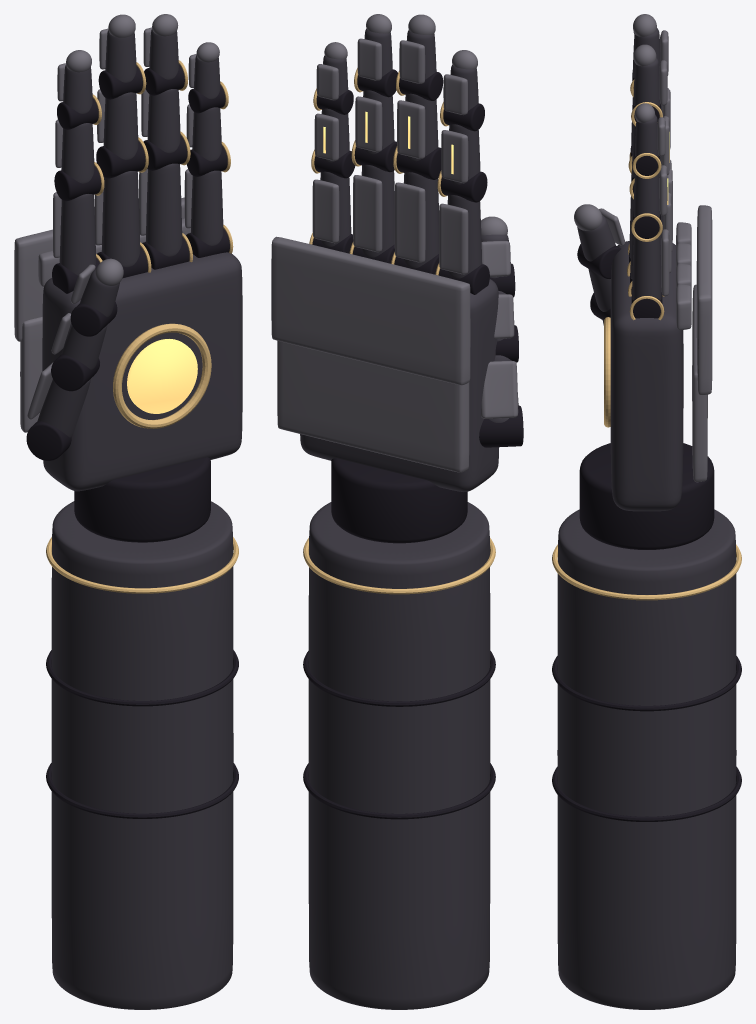
The model's file is hand.glb.
The picture shows the model from 3 angles, left to right: view 1: azimuth 30°, elevation 25°; view 2: azimuth 150°, elevation 25°; view 3: azimuth 270°, elevation 25°; orthographic projection.
Parts seen in each view (by area): view 1: cuff, palm, wrist, palm_light, f1_s0, f2_s0, back_plate_b, palm_ring, f0_s0, f3_s0, back_plate_a, f1_s1 (+30 smaller); view 2: cuff, back_plate_b, back_plate_a, wrist, palm, f1_s0_shell, f2_s0_shell, f0_s0_shell, thumb_s0_shell, f3_s0_shell, f1_s0, f1_s1_shell (+31 smaller); view 3: cuff, palm, wrist, back_plate_b, back_plate_a, f3_s0, cuff_ring0, cuff_ring1, cuff_ring2, f2_s2, f3_s1, thumb_s2 (+11 smaller).
Part boxes in pixels (bbox=[...]): cuff: bbox=[51, 501, 233, 1009]; palm: bbox=[42, 252, 242, 491]; wrist: bbox=[74, 457, 210, 542]; palm_light: bbox=[127, 339, 197, 413]; f1_s0: bbox=[101, 171, 140, 267]; f2_s0: bbox=[145, 163, 182, 256]; back_plate_b: bbox=[14, 197, 184, 341]; palm_ring: bbox=[113, 323, 211, 428]; f0_s0: bbox=[59, 194, 96, 275]; f3_s0: bbox=[190, 170, 223, 245]; back_plate_a: bbox=[20, 317, 42, 432]; f1_s1: bbox=[103, 92, 138, 159]; cuff: bbox=[308, 502, 490, 1009]; back_plate_b: bbox=[271, 236, 470, 385]; back_plate_a: bbox=[277, 340, 469, 472]; wrist: bbox=[331, 458, 467, 543]; palm: bbox=[300, 279, 498, 491]; f1_s0_shell: bbox=[394, 182, 425, 262]; f2_s0_shell: bbox=[353, 175, 382, 252]; f0_s0_shell: bbox=[439, 203, 468, 274]; thumb_s0_shell: bbox=[481, 361, 518, 418]; f3_s0_shell: bbox=[312, 179, 339, 243]; f1_s0: bbox=[403, 172, 438, 268]; f1_s1_shell: bbox=[397, 100, 425, 158]; cuff: bbox=[557, 509, 736, 1009]; palm: bbox=[610, 241, 683, 511]; wrist: bbox=[579, 443, 714, 549]; back_plate_b: bbox=[696, 205, 712, 395]; back_plate_a: bbox=[692, 284, 707, 482]; f3_s0: bbox=[632, 236, 661, 299]; cuff_ring0: bbox=[552, 544, 741, 600]; cuff_ring1: bbox=[552, 656, 741, 711]; cuff_ring2: bbox=[552, 766, 741, 821]; f2_s2: bbox=[633, 58, 660, 105]; f3_s1: bbox=[633, 173, 660, 217]; thumb_s2: bbox=[577, 214, 615, 261].
Size of the model in its own units: 1.22 by 5.14 by 0.932.
